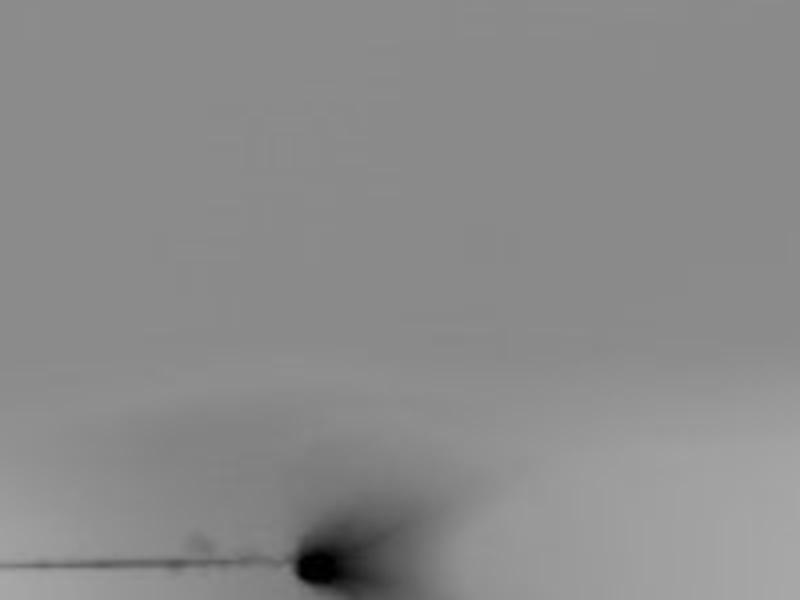defect: (296, 543, 352, 586), (181, 531, 217, 555)
